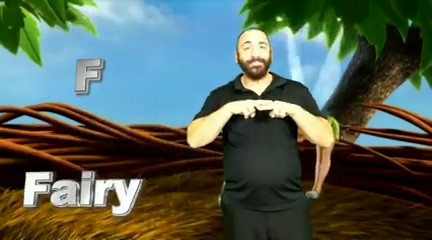F: (227, 94, 295, 123)
